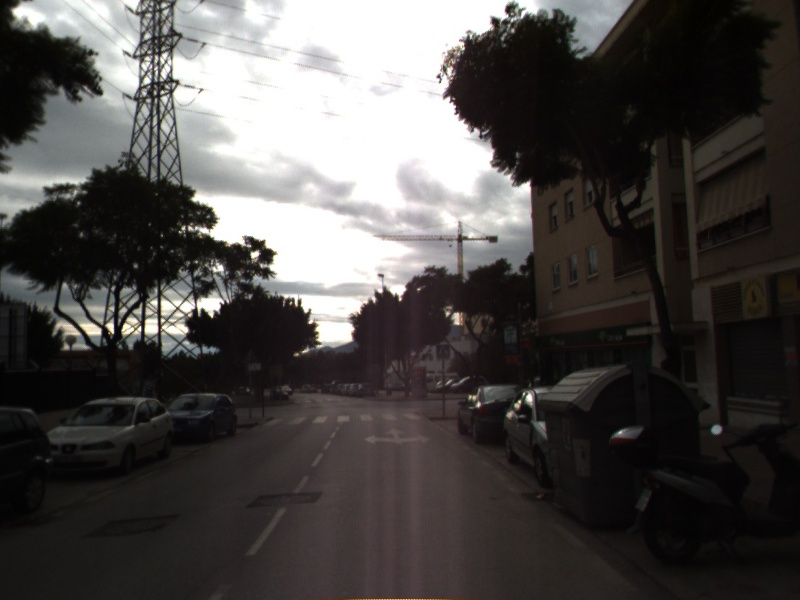STRAIGHT_LEFT_RIGHT: (362, 426, 433, 447)
